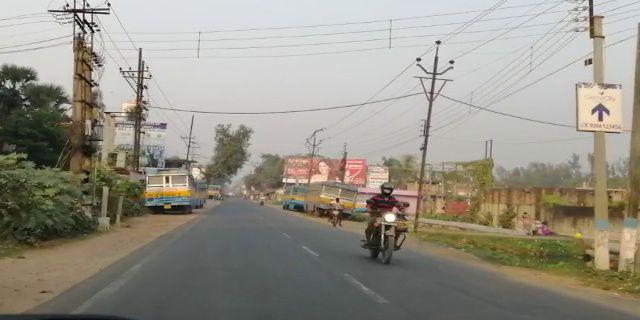Bus: (138, 164, 198, 216), (300, 180, 360, 217), (277, 176, 303, 211)
Motorbike: (355, 177, 413, 273), (320, 195, 344, 232)
